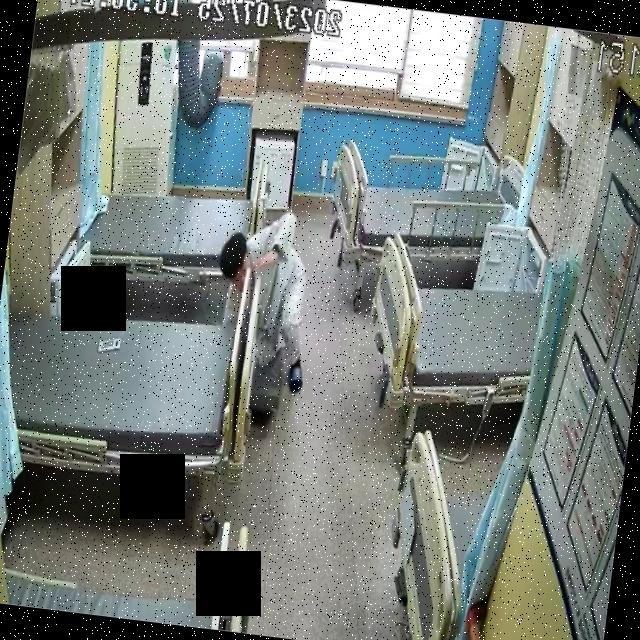bed: (0, 289, 242, 490), (356, 229, 548, 426), (328, 134, 526, 278), (74, 154, 268, 296)
fall: (203, 204, 325, 398)
patient: (202, 204, 324, 398)
